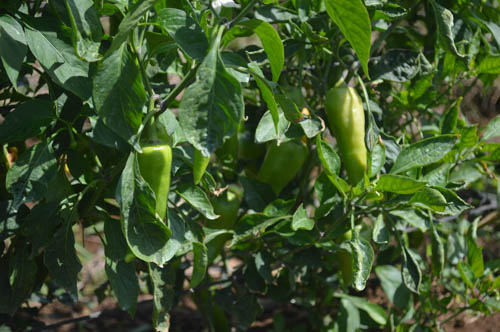ChiliPepper: (329, 86, 369, 183), (136, 143, 173, 219), (258, 139, 307, 195), (204, 195, 243, 260)
